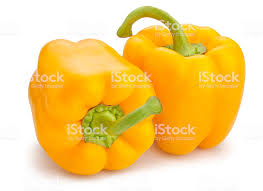bell pepper: (110, 11, 247, 156), (20, 38, 160, 177)
